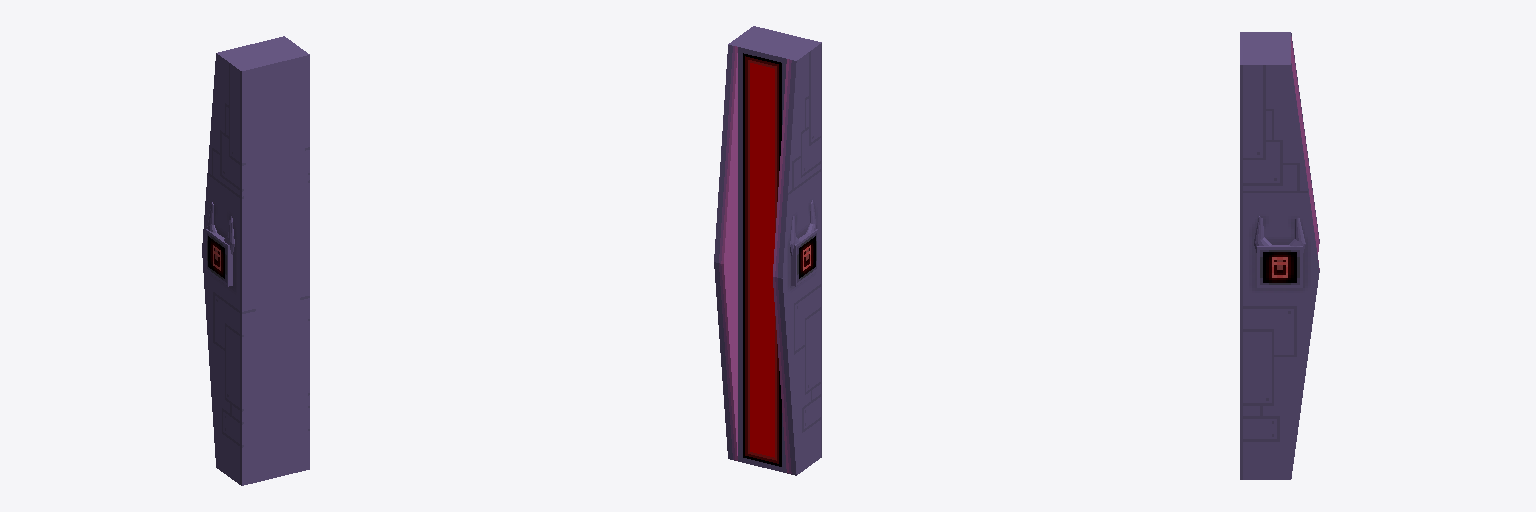
3 renders of one model, left to right at view 1: azimuth 30°, elevation 25°; view 2: azimuth 150°, elevation 25°; view 3: azimuth 270°, elevation 25°, orthographic.
Parts seen in each view (by area): view 1: cuboid, cylinder; view 2: cuboid, cylinder; view 3: cuboid, cylinder.
Boxes of the visible parts, x1=… form: cuboid: x1=202, y1=36, x2=309, y2=485; cylinder: x1=206, y1=202, x2=234, y2=286; cuboid: x1=714, y1=26, x2=821, y2=475; cylinder: x1=789, y1=200, x2=817, y2=286; cuboid: x1=1240, y1=32, x2=1319, y2=479; cylinder: x1=1254, y1=216, x2=1305, y2=287.
Size of the model in its own units: 1 by 5.06 by 0.875.
1 materials, 1 textured.